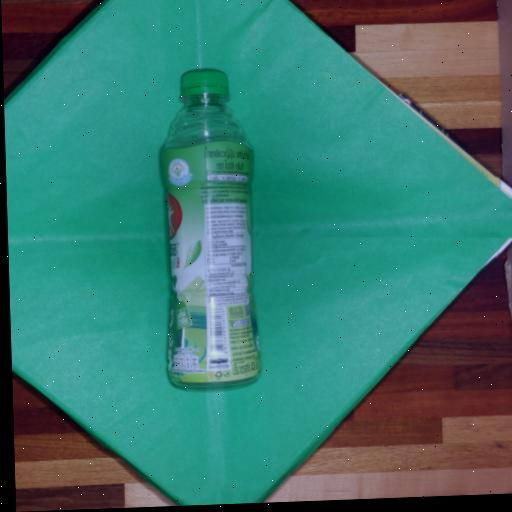bottle: (147, 49, 267, 413)
